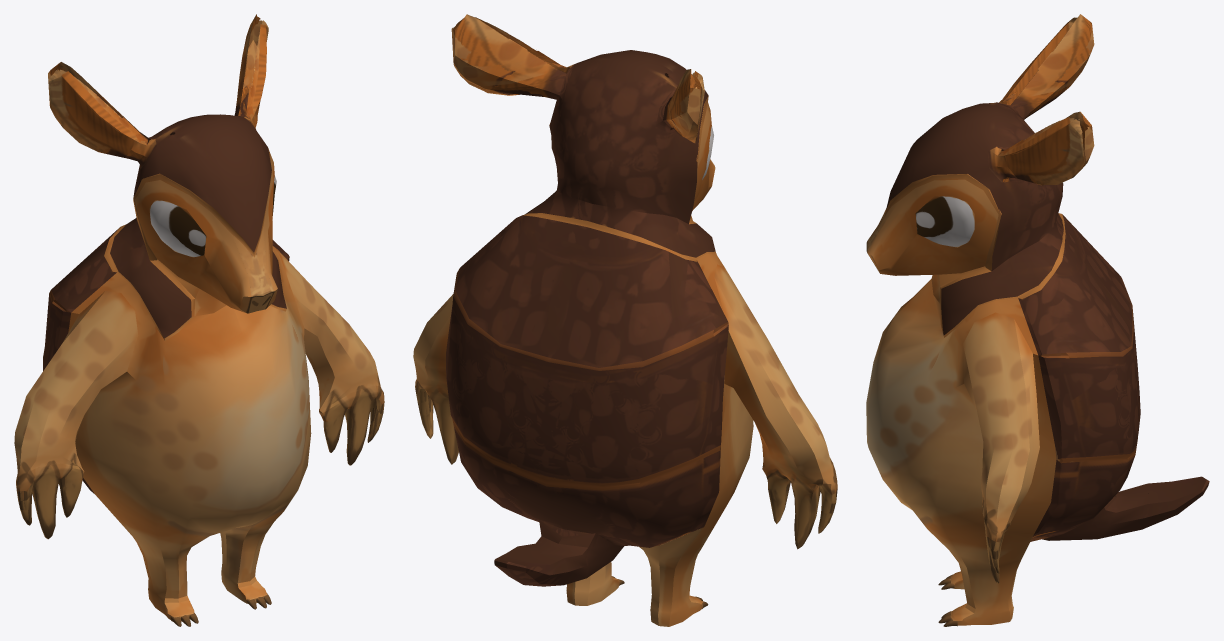
The model's file is TATU_CANASTRA.fbx.
The picture shows the model from 3 angles, left to right: view 1: azimuth 30°, elevation 25°; view 2: azimuth 150°, elevation 25°; view 3: azimuth 270°, elevation 25°; orthographic projection. The views are drawn at different scales.
Parts seen in each view (by area): view 1: final.001; view 2: final.001; view 3: final.001.
Part boxes in pixels (x1,y1,x2,y2): final.001: (14, 14, 384, 626); final.001: (413, 14, 837, 626); final.001: (866, 14, 1209, 626).
Size of the model in its own units: 73.33 by 101 by 58.22.
